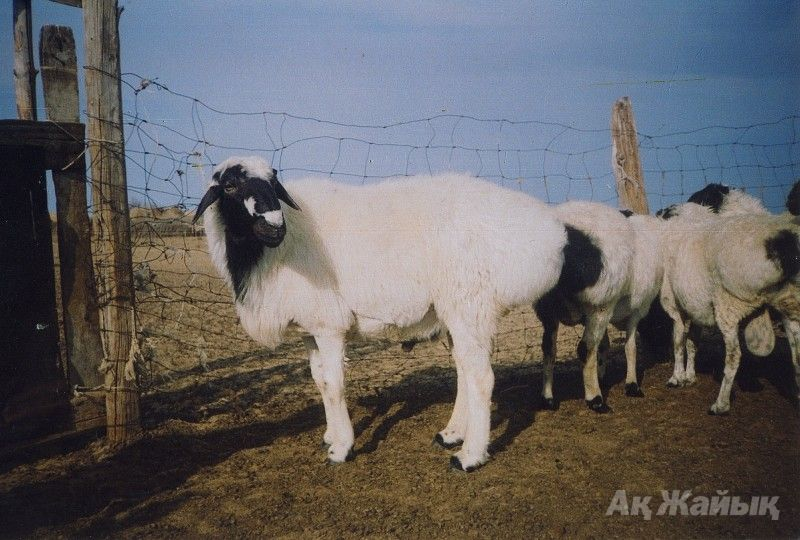sheep: (182, 142, 612, 483)
